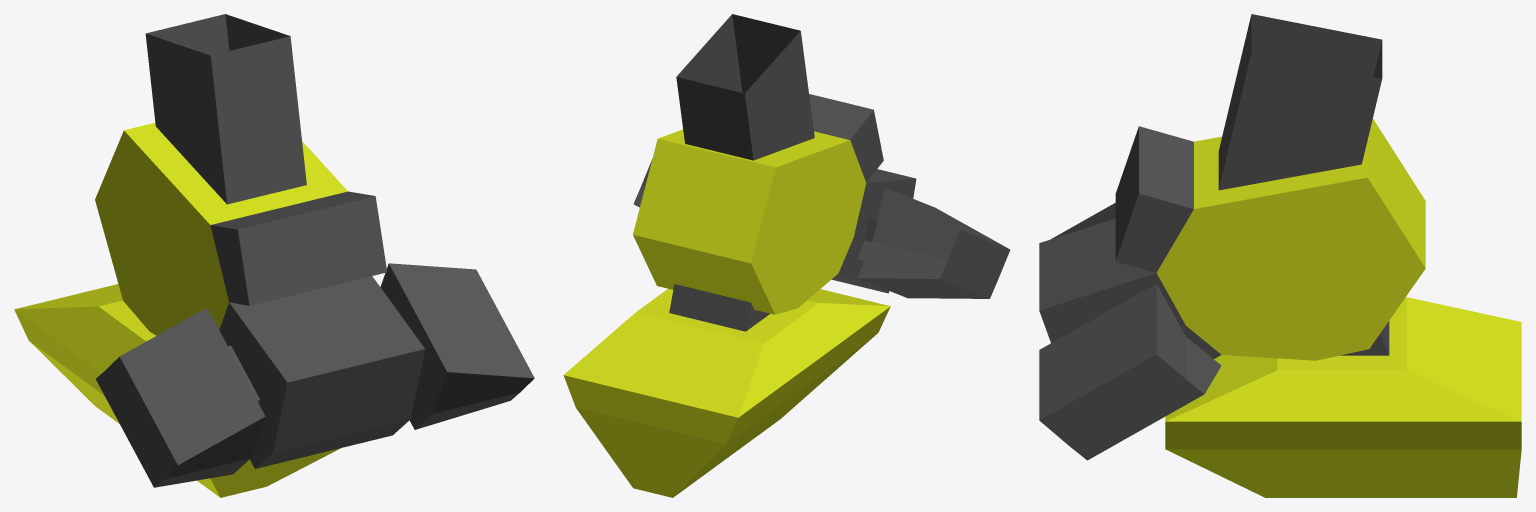
Rendered from EngineerLower.glb.
3 views of the same model, side by side, from view 1: azimuth 30°, elevation 25°; view 2: azimuth 150°, elevation 25°; view 3: azimuth 270°, elevation 25° (orthographic). The views are drawn at different scales.
Parts seen in each view (by area): view 1: Body.006; view 2: Body.006; view 3: Body.006.
Boxes of the visible parts, bbox=[...] form: Body.006: bbox=[14, 14, 534, 497]; Body.006: bbox=[563, 14, 1010, 497]; Body.006: bbox=[1039, 14, 1521, 497].
Size of the model in its own units: 0.8146 by 0.985 by 0.9505.
